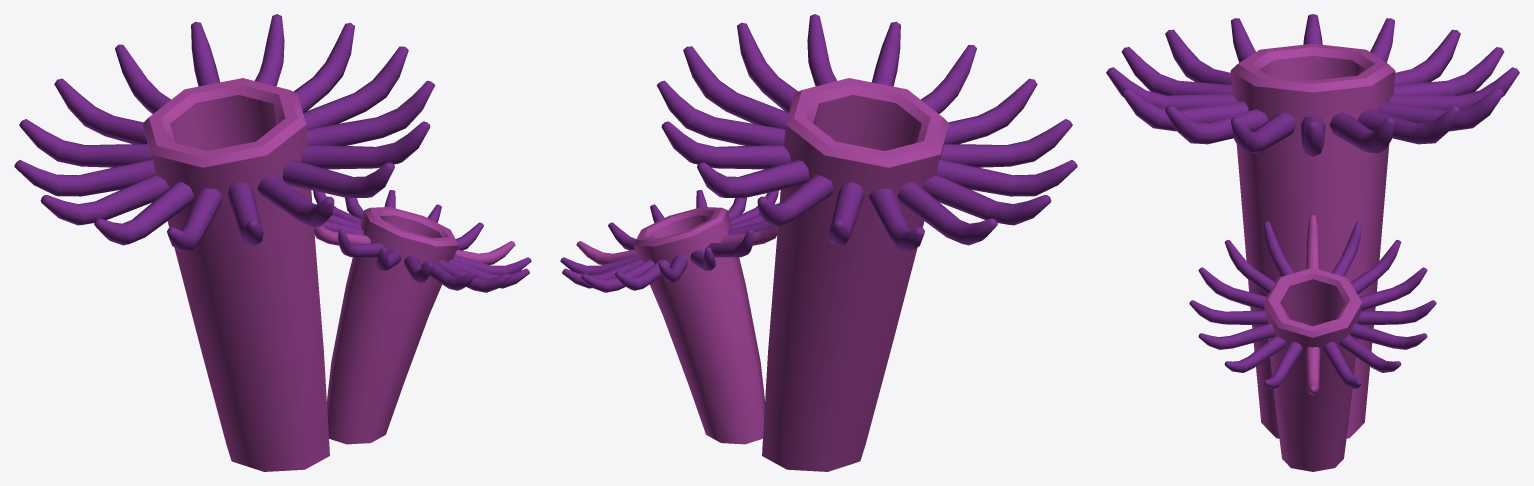
The model's file is Sea_plant_4_1.001.fbx.
The picture shows the model from 3 angles, left to right: view 1: azimuth 30°, elevation 25°; view 2: azimuth 150°, elevation 25°; view 3: azimuth 270°, elevation 25°; orthographic projection. The views are drawn at different scales.
Parts seen in each view (by area): view 1: Sea_plant_4_1.001; view 2: Sea_plant_4_1.001; view 3: Sea_plant_4_1.001.
Part boxes in pixels (x1,y1,x2,y2): Sea_plant_4_1.001: (14, 14, 531, 471); Sea_plant_4_1.001: (560, 14, 1077, 471); Sea_plant_4_1.001: (1106, 14, 1519, 471).
Size of the model in its own units: 1.16 by 0.873 by 0.9111.
